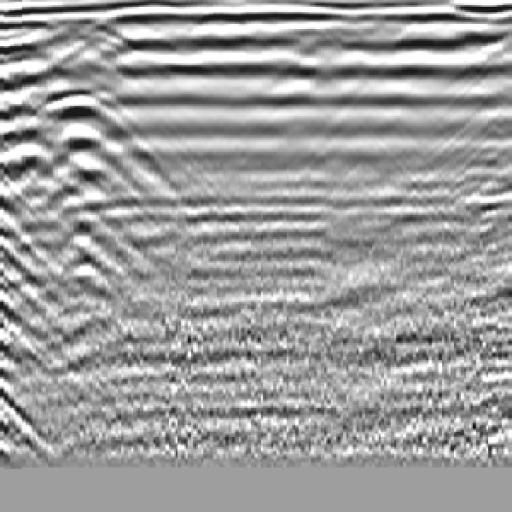metalic: (1, 17, 191, 301)
